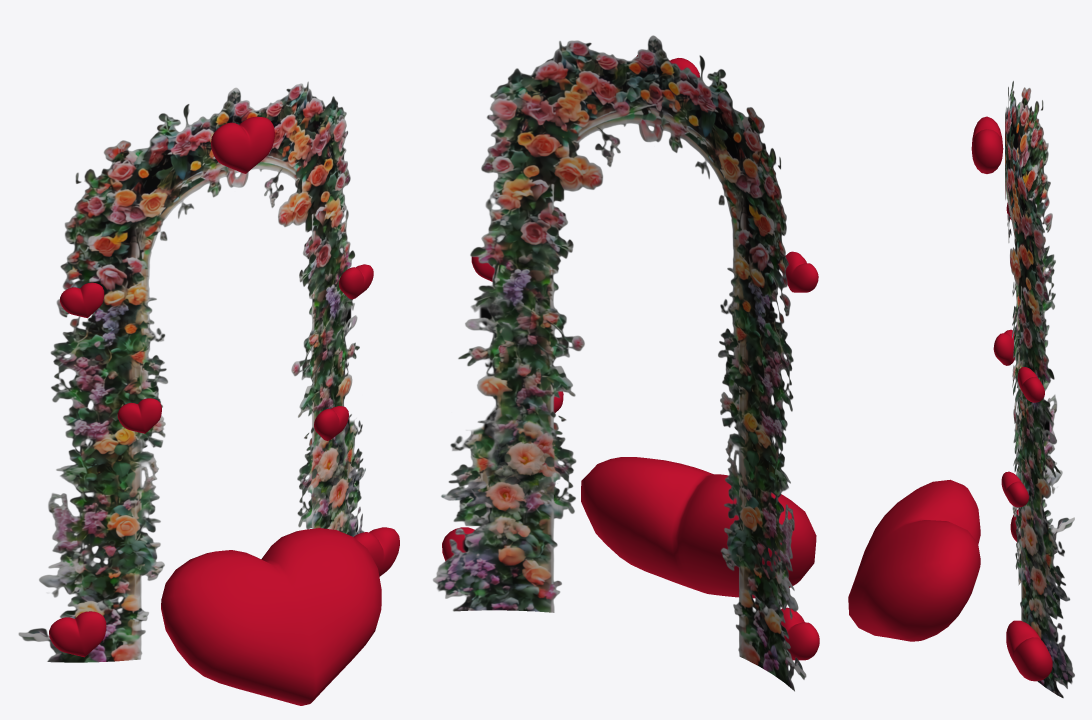
Rendered from frame.glb.
The picture shows the model from 3 angles, left to right: view 1: azimuth 30°, elevation 25°; view 2: azimuth 150°, elevation 25°; view 3: azimuth 270°, elevation 25°; orthographic projection. The views are drawn at different scales.
Parts seen in each view (by area): view 1: Frame_Mesh, Deco_Heart_01.001, Deco_Heart_01, Deco_Heart_02.002, Deco_Heart_03.002, Deco_Heart_02, Deco_Heart_02.001, Deco_Heart_03.001, Deco_Heart_03; view 2: Frame_Mesh, Deco_Heart_01.001, Deco_Heart_02.002, Deco_Heart_02; view 3: Frame_Mesh, Deco_Heart_01.001, Deco_Heart_03.002, Deco_Heart_01, Deco_Heart_03.001, Deco_Heart_03, Deco_Heart_02.001.
Part boxes in pixels (x1,y1,x2,y2): Frame_Mesh: [18, 81, 365, 662]; Deco_Heart_01.001: [161, 528, 381, 705]; Deco_Heart_01: [211, 116, 275, 173]; Deco_Heart_02.002: [49, 611, 106, 657]; Deco_Heart_03.002: [354, 527, 399, 576]; Deco_Heart_02: [60, 282, 104, 318]; Deco_Heart_02.001: [117, 398, 161, 433]; Deco_Heart_03.001: [314, 406, 348, 440]; Deco_Heart_03: [338, 264, 373, 299]; Frame_Mesh: [433, 35, 806, 691]; Deco_Heart_01.001: [581, 457, 816, 598]; Deco_Heart_02.002: [781, 607, 819, 660]; Deco_Heart_02: [785, 251, 818, 292]; Frame_Mesh: [1005, 81, 1074, 698]; Deco_Heart_01.001: [848, 479, 980, 641]; Deco_Heart_03.002: [1006, 620, 1052, 681]; Deco_Heart_01: [971, 116, 1003, 173]; Deco_Heart_03.001: [1001, 471, 1028, 507]; Deco_Heart_03: [1017, 367, 1044, 402]; Deco_Heart_02.001: [993, 329, 1014, 365].
Bounding box in the file's own units: 1.63 × 2.45 × 0.9456.
2 materials, 1 textured.
